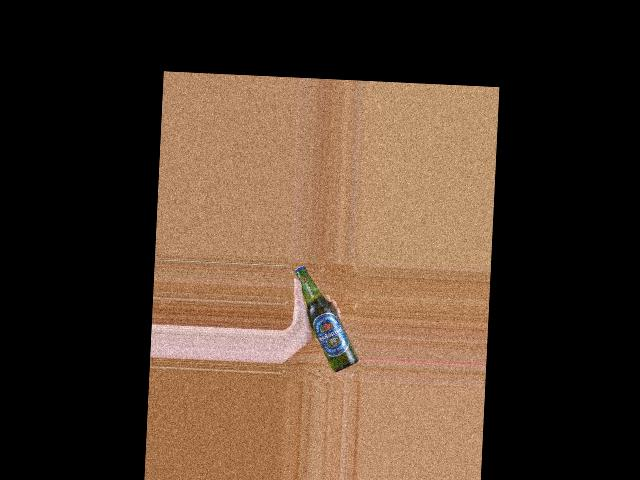beer: (290, 264, 362, 373)
